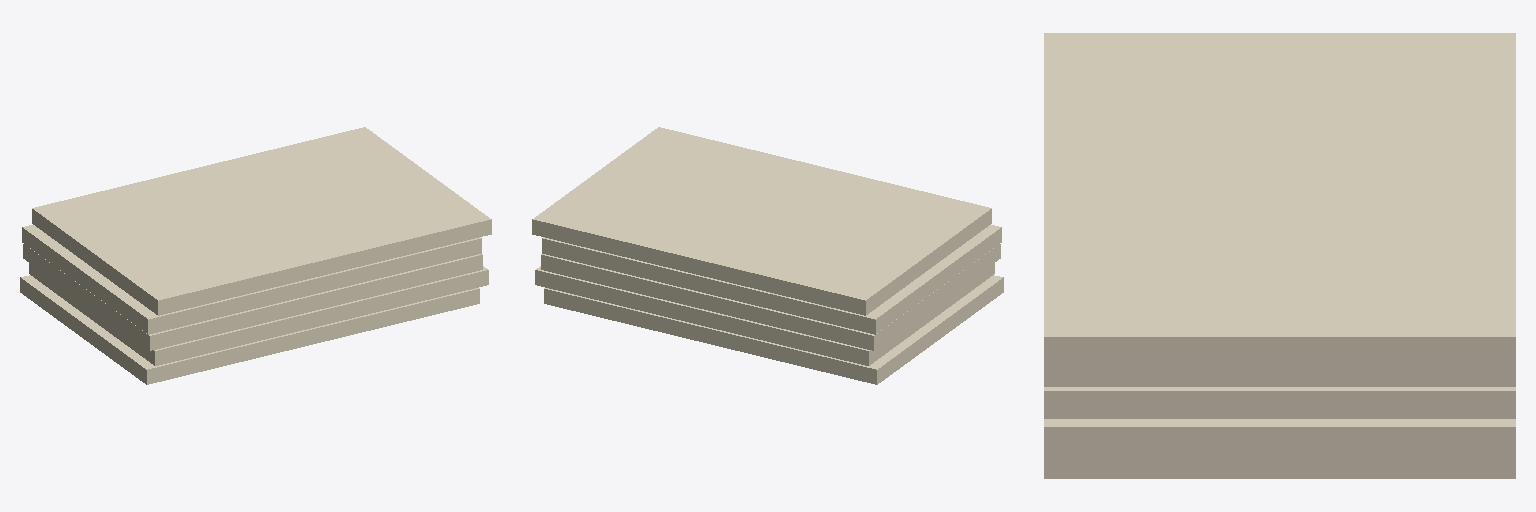
robot.urdf — nova_environment_object_0305:
<?xml version="1.0" encoding="utf-8"?>
<!-- Nova movable environment body for the bundled PyBullet launcher. SI metres/kg/radians. Loaded at its body origin; hinge/slider bodies use a fixed world_anchor base with one passive joint. Inertia is about COM. -->
<robot name="nova_environment_object_0305">
  <link name="body">
    <inertial>
      <origin xyz="0 0 0.015" rpy="0 0 0" />
      <mass value="0.06" />
      <inertia ixx="4.56022222e-05" iyy="9.698e-05" izz="0.000133582222" ixy="0" ixz="0" iyz="0" />
    </inertial>
    <visual>
      <origin xyz="0 0 0" rpy="0 0 0" />
      <geometry>
        <mesh filename="object_0305.obj" />
      </geometry>
      <material name="surface">
        <color rgba="0.91 0.88 0.8 1" />
      </material>
    </visual>
    <collision>
      <origin xyz="0 0 0" rpy="0 0 0" />
      <geometry>
        <mesh filename="object_0305_collision_00.obj" />
      </geometry>
    </collision>
  </link>
</robot>

--- What the picture shows (computed from the rendered views, not written in the file) ---
The picture shows the robot from 3 angles, left to right: view 1: azimuth 30°, elevation 25°; view 2: azimuth 150°, elevation 25°; view 3: azimuth 270°, elevation 25°; orthographic projection.
Model nova_environment_object_0305 with 1 links and 0 joints (none), rooted at body, posed every joint at zero.
Links seen in each view (by area): view 1: body; view 2: body; view 3: body.
Boxes of the visible links, bbox=[...] form: body: bbox=[20, 127, 491, 384]; body: bbox=[532, 127, 1003, 384]; body: bbox=[1044, 33, 1515, 478].
Size in the robot's own frame: 0.1303 by 0.0827 by 0.0295 metres.
1 mesh visuals loaded from 1 distinct referenced files (1 OBJ).
